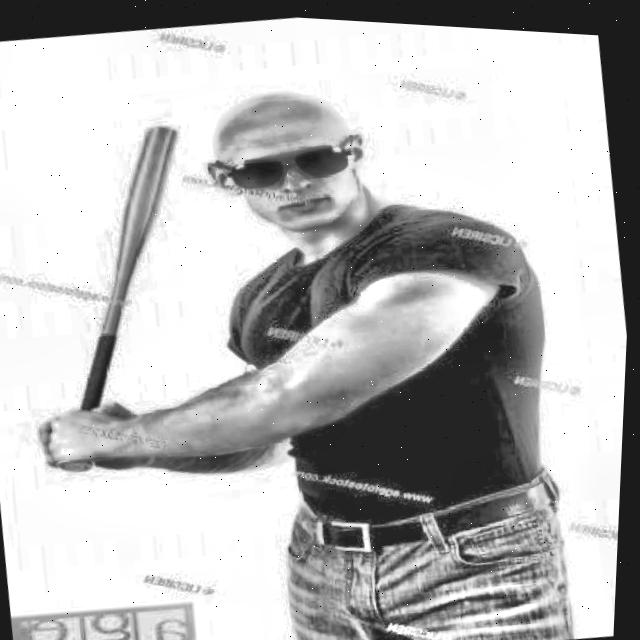tongkat pemukul: (43, 118, 183, 488)
